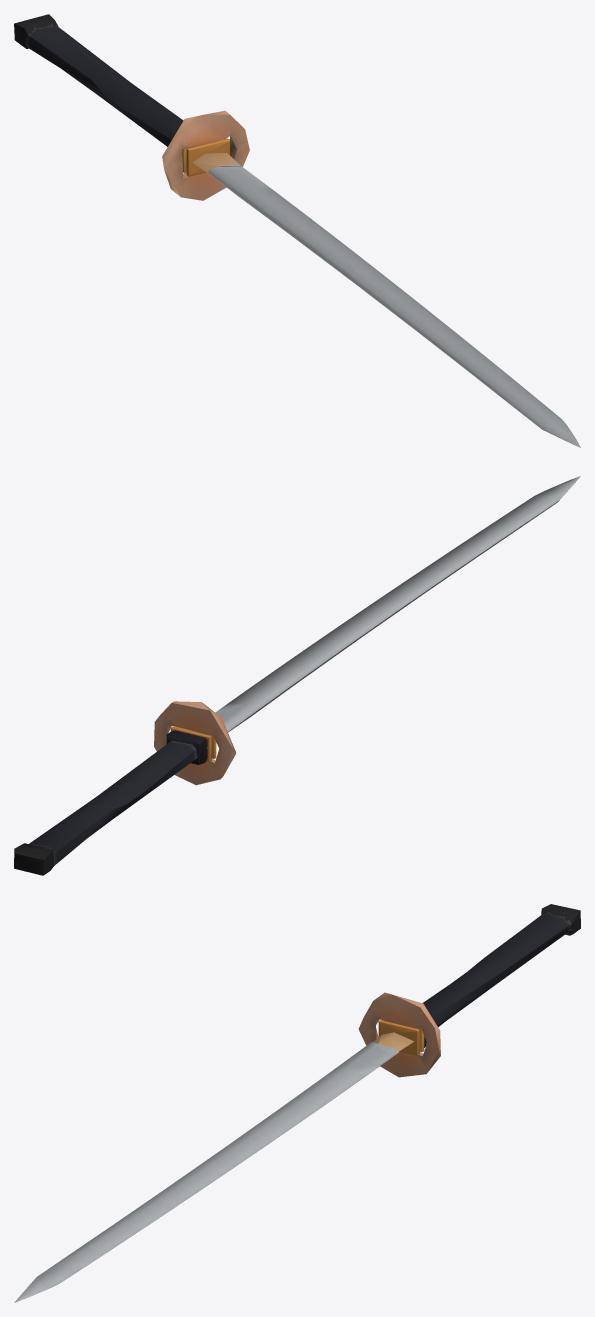
The model's file is katana_LOD1.glb.
3 renders of one model, top to bottom at view 1: azimuth 30°, elevation 25°; view 2: azimuth 150°, elevation 25°; view 3: azimuth 330°, elevation 25°, orthographic. The views are drawn at different scales.
Visible parts, largest first — view 1: SM_katana_Body; view 2: SM_katana_Body; view 3: SM_katana_Body.
Part boxes in pixels (bbox=[...]): SM_katana_Body: bbox=[14, 14, 580, 447]; SM_katana_Body: bbox=[14, 476, 580, 875]; SM_katana_Body: bbox=[14, 904, 580, 1302].
Size of the model in its own units: 0.0854 by 0.0836 by 0.9799.
Materials: 1 (1 with a texture image).
